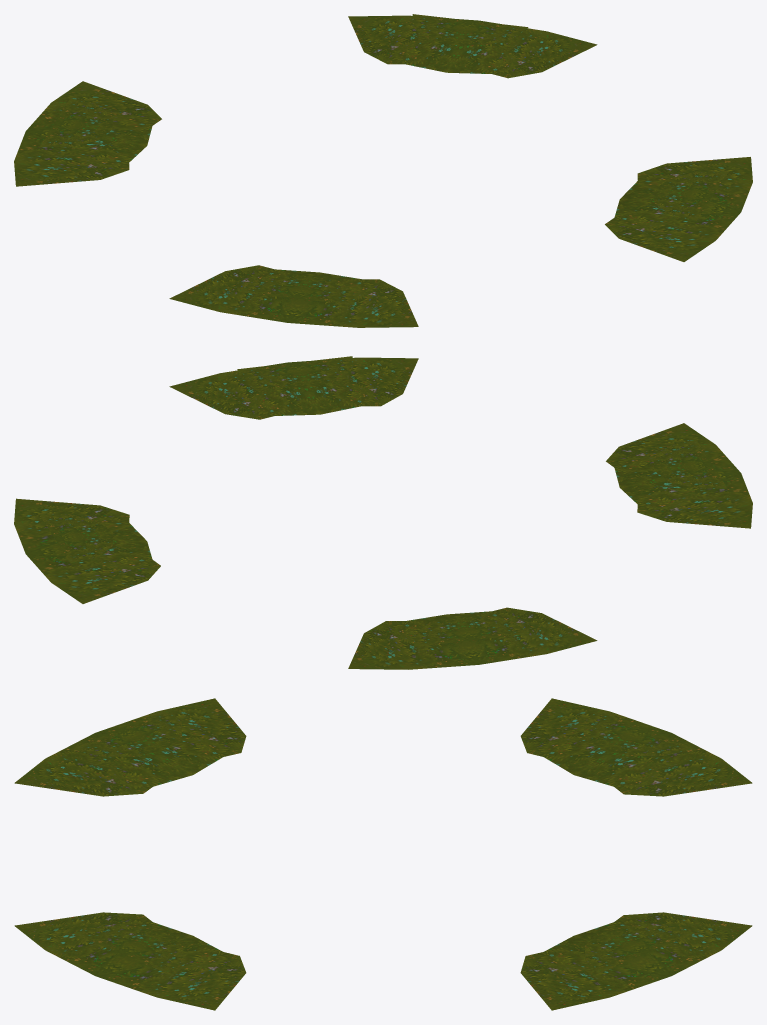
File: cs_xinzhucheng_huatancaodi_001.FBX
3 renders of one model, top to bottom at view 1: azimuth 30°, elevation 25°; view 2: azimuth 150°, elevation 25°; view 3: azimuth 270°, elevation 25°, orthographic. The views are drawn at different scales.
Visible parts, largest first — view 1: cs_xinzhucheng_huatancaodi_001; view 2: cs_xinzhucheng_huatancaodi_001; view 3: cs_xinzhucheng_huatancaodi_001.
Boxes of the visible parts, x1=… form: cs_xinzhucheng_huatancaodi_001: x1=14, y1=14, x2=752, y2=327; cs_xinzhucheng_huatancaodi_001: x1=14, y1=356, x2=752, y2=669; cs_xinzhucheng_huatancaodi_001: x1=14, y1=698, x2=752, y2=1010.
Bounding box in the file's own units: 195 × 4.3 × 195.
